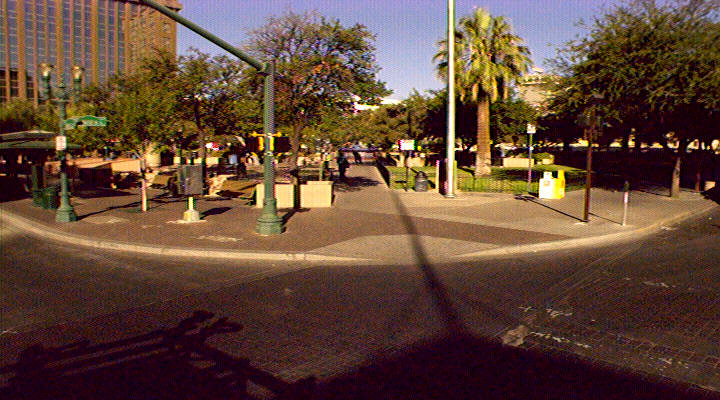Ramp: (303, 232, 508, 266)
